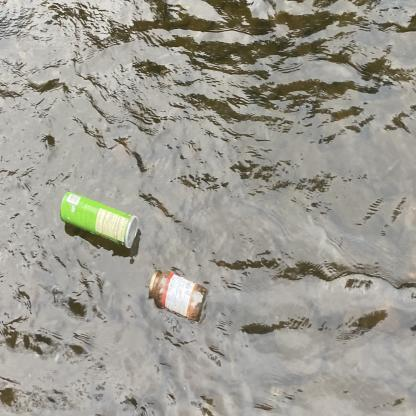trash: (54, 187, 142, 256), (142, 262, 212, 328)
